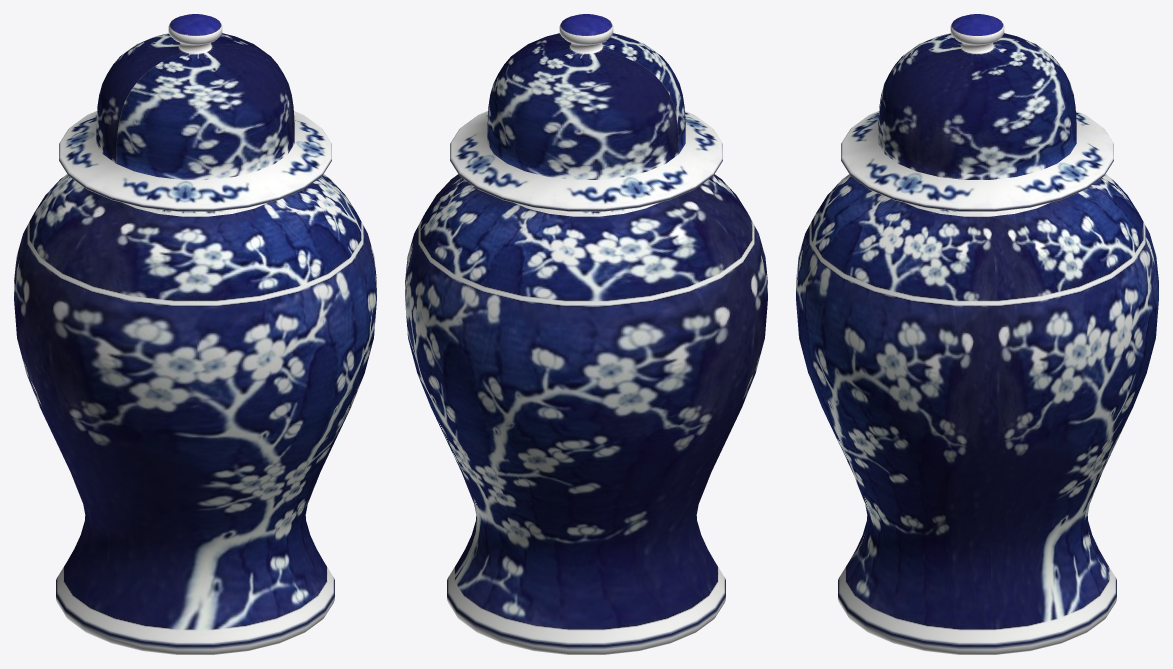
File: orta-porselen-vazo.glb
3 renders of one model, left to right at view 1: azimuth 30°, elevation 25°; view 2: azimuth 150°, elevation 25°; view 3: azimuth 270°, elevation 25°, orthographic.
Parts seen in each view (by area): view 1: Vase; view 2: Vase; view 3: Vase.
Part boxes in pixels (x1,y1,x2,y2): Vase: (14,14,376,654); Vase: (405,14,767,654); Vase: (796,14,1158,654).
Size of the model in its own units: 0.2236 by 0.3935 by 0.2236.
1 material, 1 textured.
